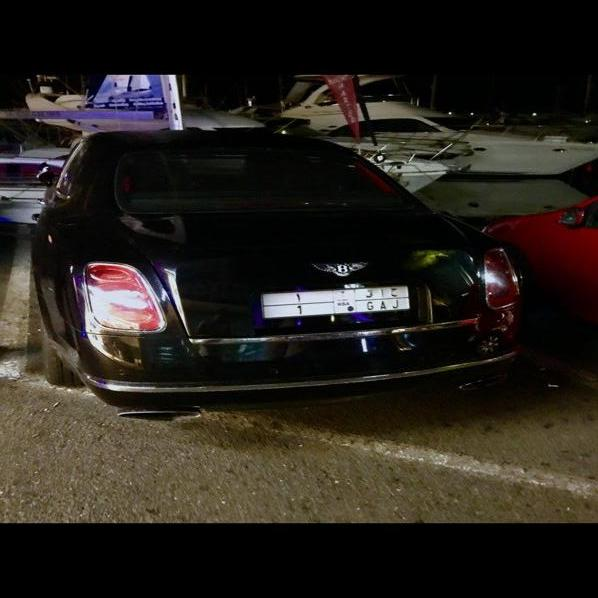numberplate: (263, 285, 412, 318)
